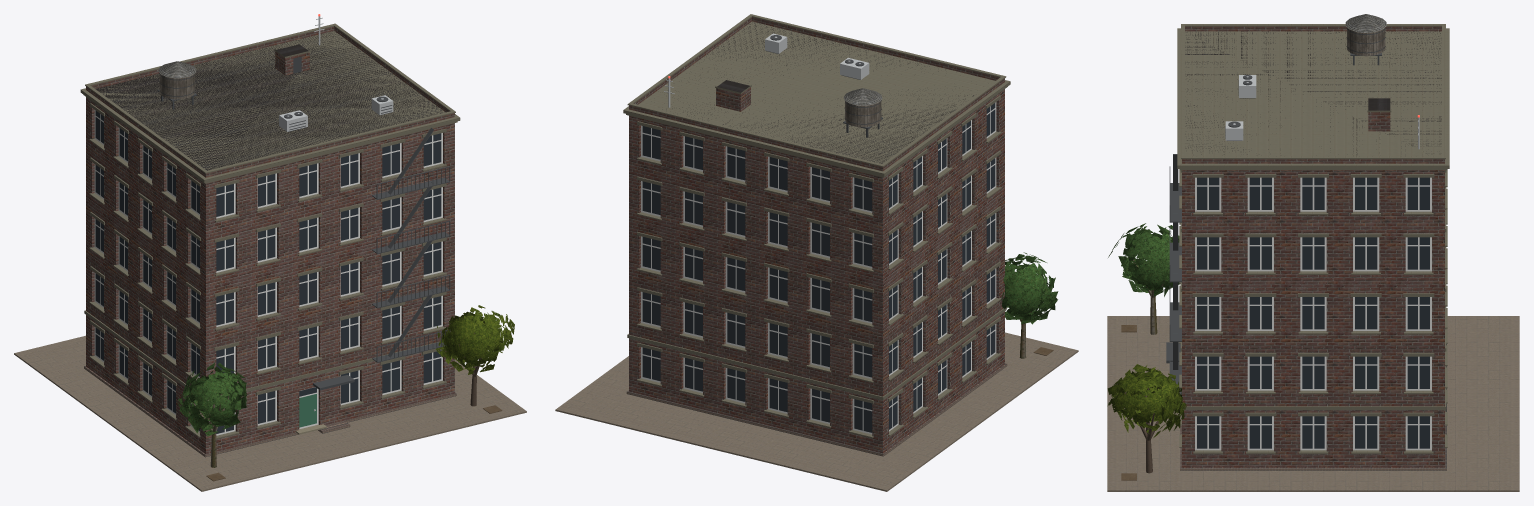
File: walkup_brick.glb
3 views of the same model, side by side, from view 1: azimuth 30°, elevation 25°; view 2: azimuth 150°, elevation 25°; view 3: azimuth 270°, elevation 25° (orthographic). The views are drawn at different scales.
Parts seen in each view (by area): view 1: walkup_brick_body, walkup_brick_foliage; view 2: walkup_brick_body, walkup_brick_foliage; view 3: walkup_brick_body, walkup_brick_foliage.
Part boxes in pixels (box(x1,y1,x2,y2)): walkup_brick_body: box(14, 14, 526, 491); walkup_brick_foliage: box(177, 305, 514, 436); walkup_brick_body: box(555, 14, 1078, 491); walkup_brick_foliage: box(1001, 252, 1058, 324); walkup_brick_body: box(1107, 14, 1519, 491); walkup_brick_foliage: box(1107, 223, 1186, 437).
Size of the model in its own units: 0.94 by 0.8892 by 0.94.
21 materials, 13 textured.
